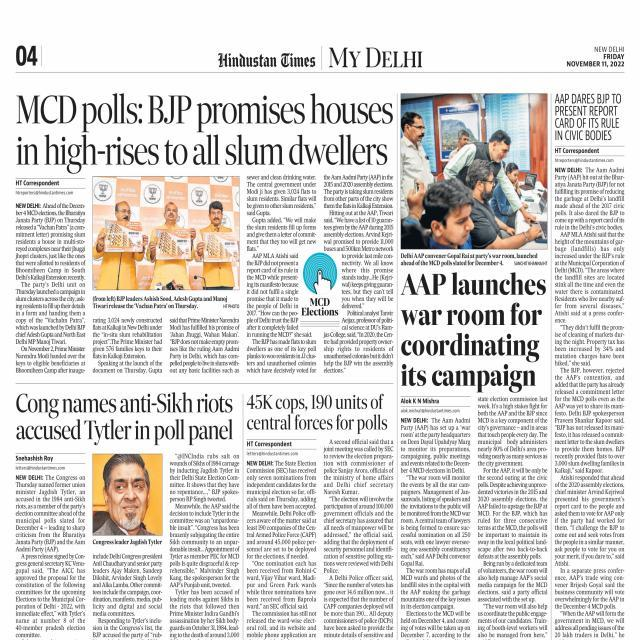Article: (6, 84, 398, 378), (11, 390, 242, 640), (244, 385, 396, 640)
Body: (554, 164, 626, 640), (478, 396, 550, 640), (400, 415, 472, 640), (322, 436, 395, 640), (323, 174, 395, 373), (246, 174, 316, 374), (168, 451, 241, 640), (13, 198, 88, 376), (245, 459, 317, 640), (14, 472, 87, 640), (91, 551, 164, 640), (168, 314, 242, 376), (91, 314, 164, 374)
Date: (564, 51, 625, 70)
Heading: (12, 90, 396, 172), (400, 270, 548, 393), (14, 390, 234, 448), (247, 389, 388, 434), (553, 89, 625, 142)
Image: (402, 93, 548, 250), (92, 176, 240, 290), (91, 454, 163, 536)
Name: (326, 44, 426, 70), (216, 49, 315, 70)
